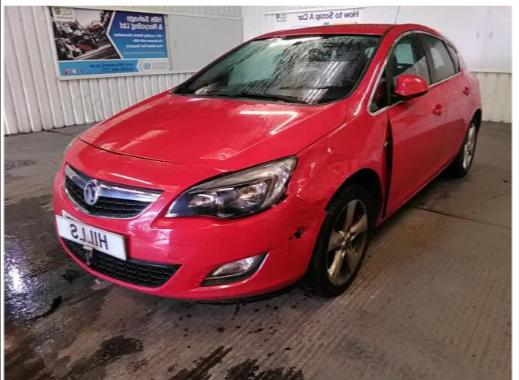Broken part: (229, 188, 327, 221), (379, 111, 396, 223), (286, 226, 307, 241)
Dent: (279, 196, 326, 251), (287, 143, 332, 195), (305, 151, 357, 192), (356, 143, 383, 170), (381, 113, 388, 199), (331, 166, 345, 186), (320, 181, 334, 197)
